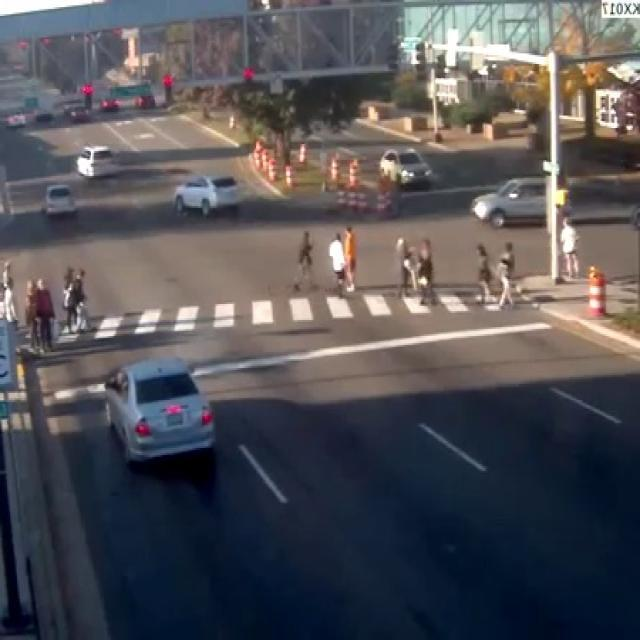car: (104, 357, 213, 460), (470, 176, 543, 225), (174, 173, 238, 213), (378, 146, 432, 187), (74, 143, 118, 175), (42, 182, 74, 214)
red_light: (160, 71, 172, 103), (79, 81, 90, 107), (242, 65, 251, 82)
stop_line: (192, 320, 548, 375), (43, 383, 103, 403)
